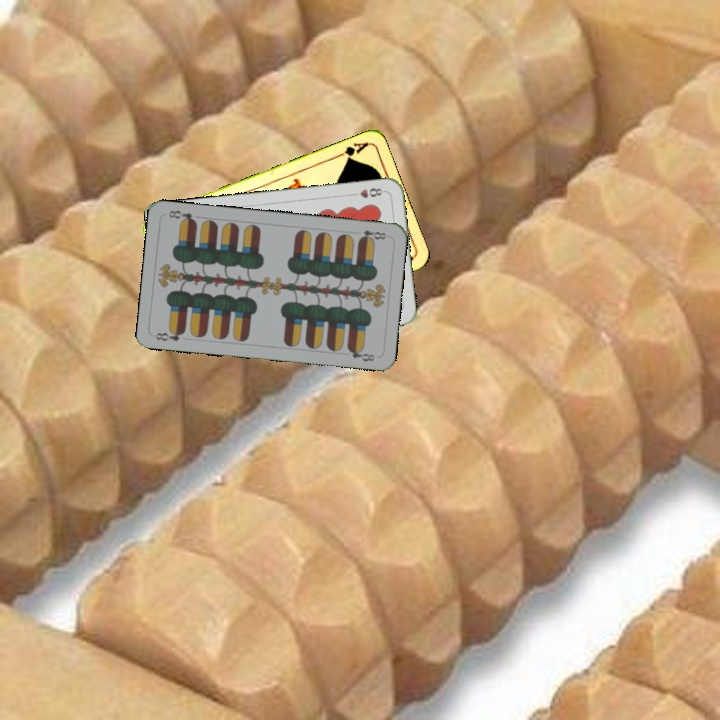E8: (355, 226, 391, 244), (152, 326, 188, 344)
GA: (331, 138, 370, 163)
H8: (347, 184, 387, 200)
